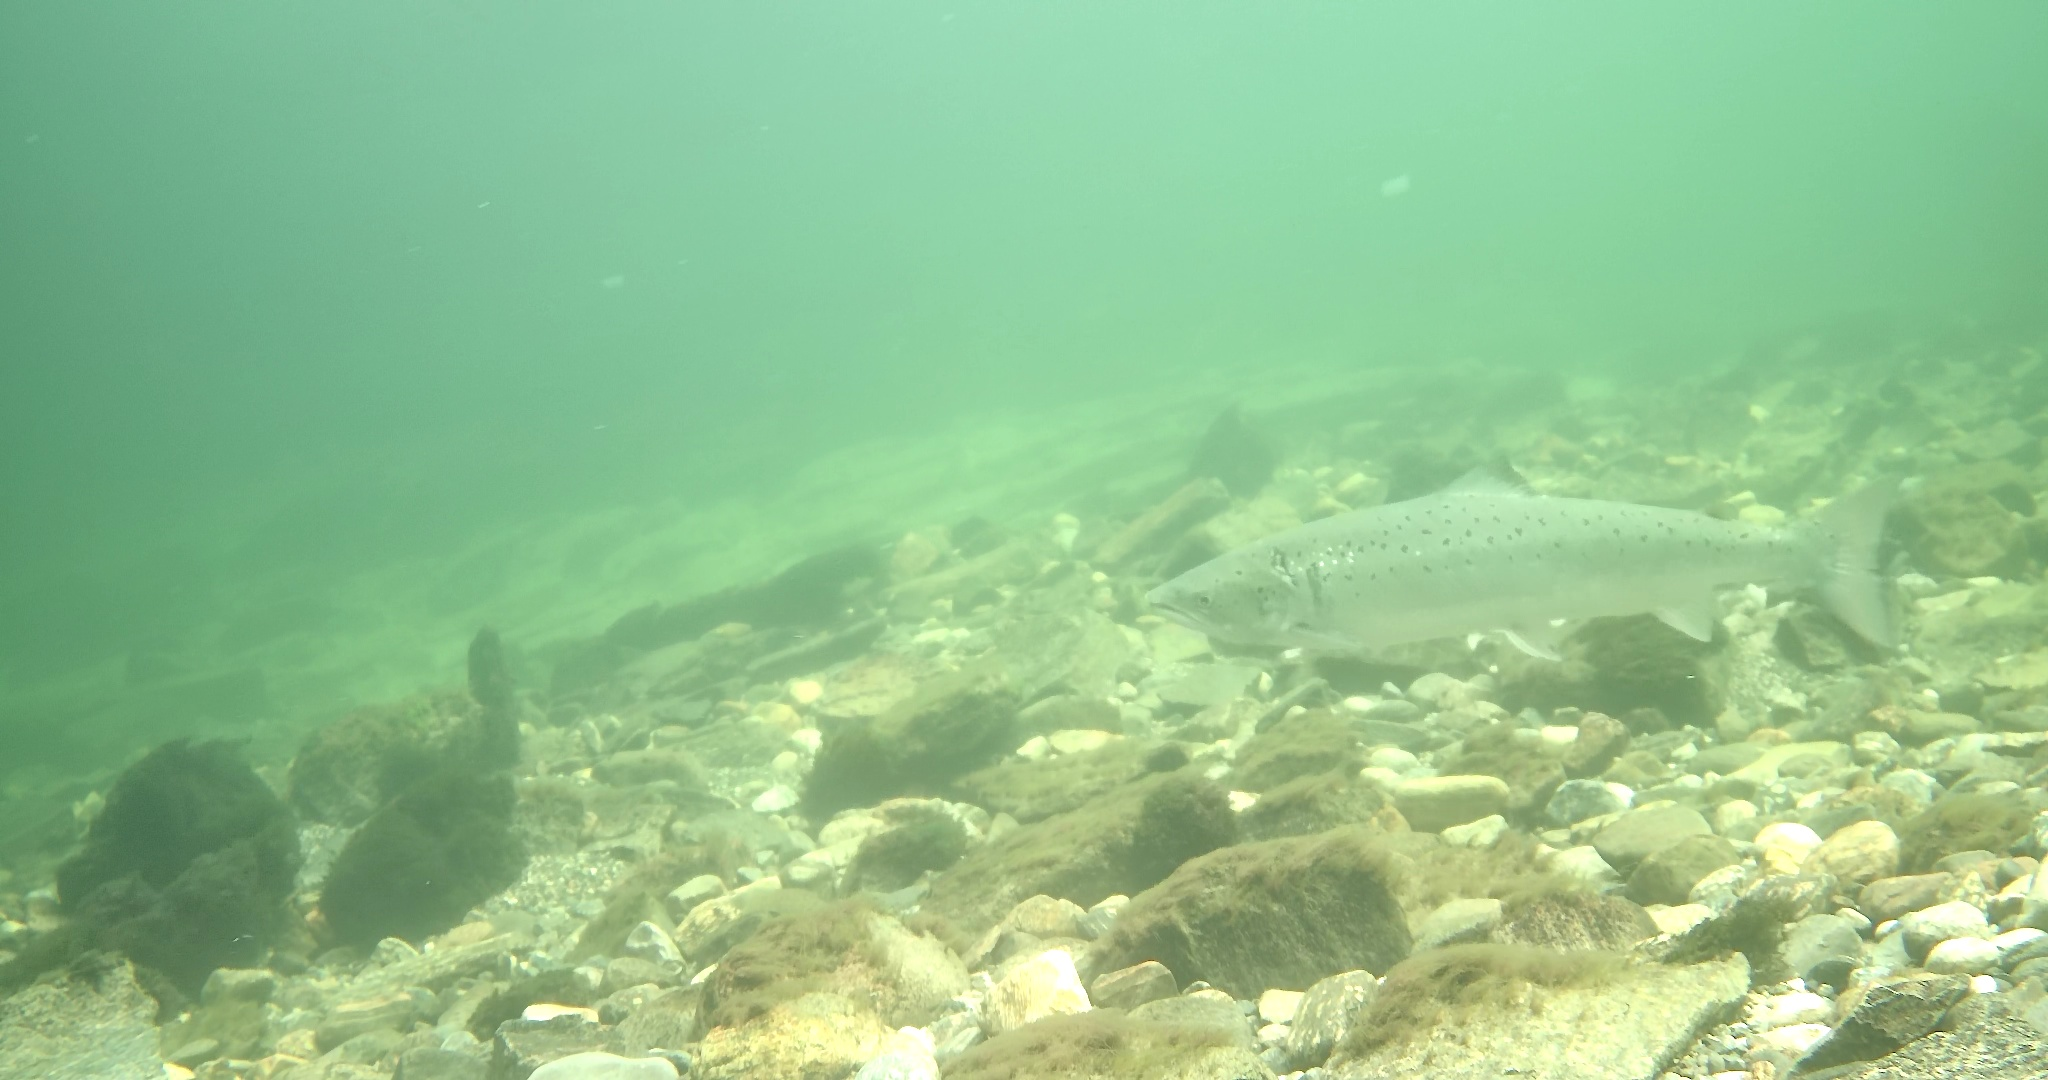salmon: (1142, 453, 1884, 660)
